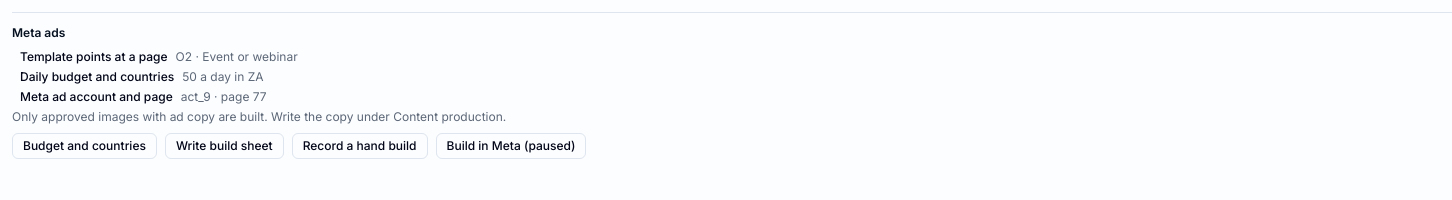
Test case: MetaBuildSection › queues a paused build through the guarded RPC
What coordinates should you click on to do the following:
click the button "Build in Meta (paused)"
I would click on:
 (511, 146)
Its box is [436,133,586,159].
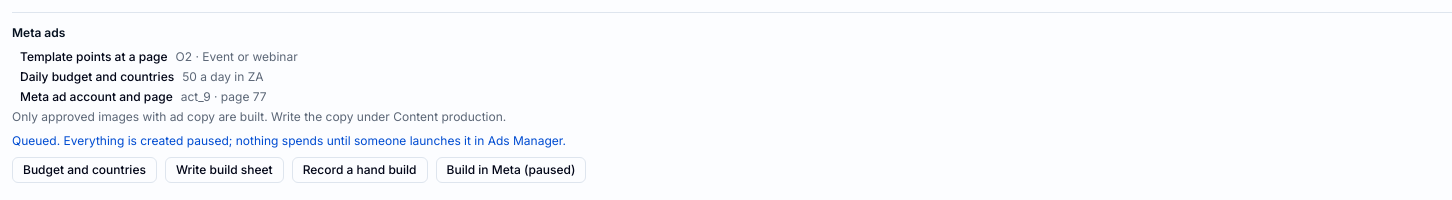
Check: the message shows "created paused", box [12,133,566,148]
